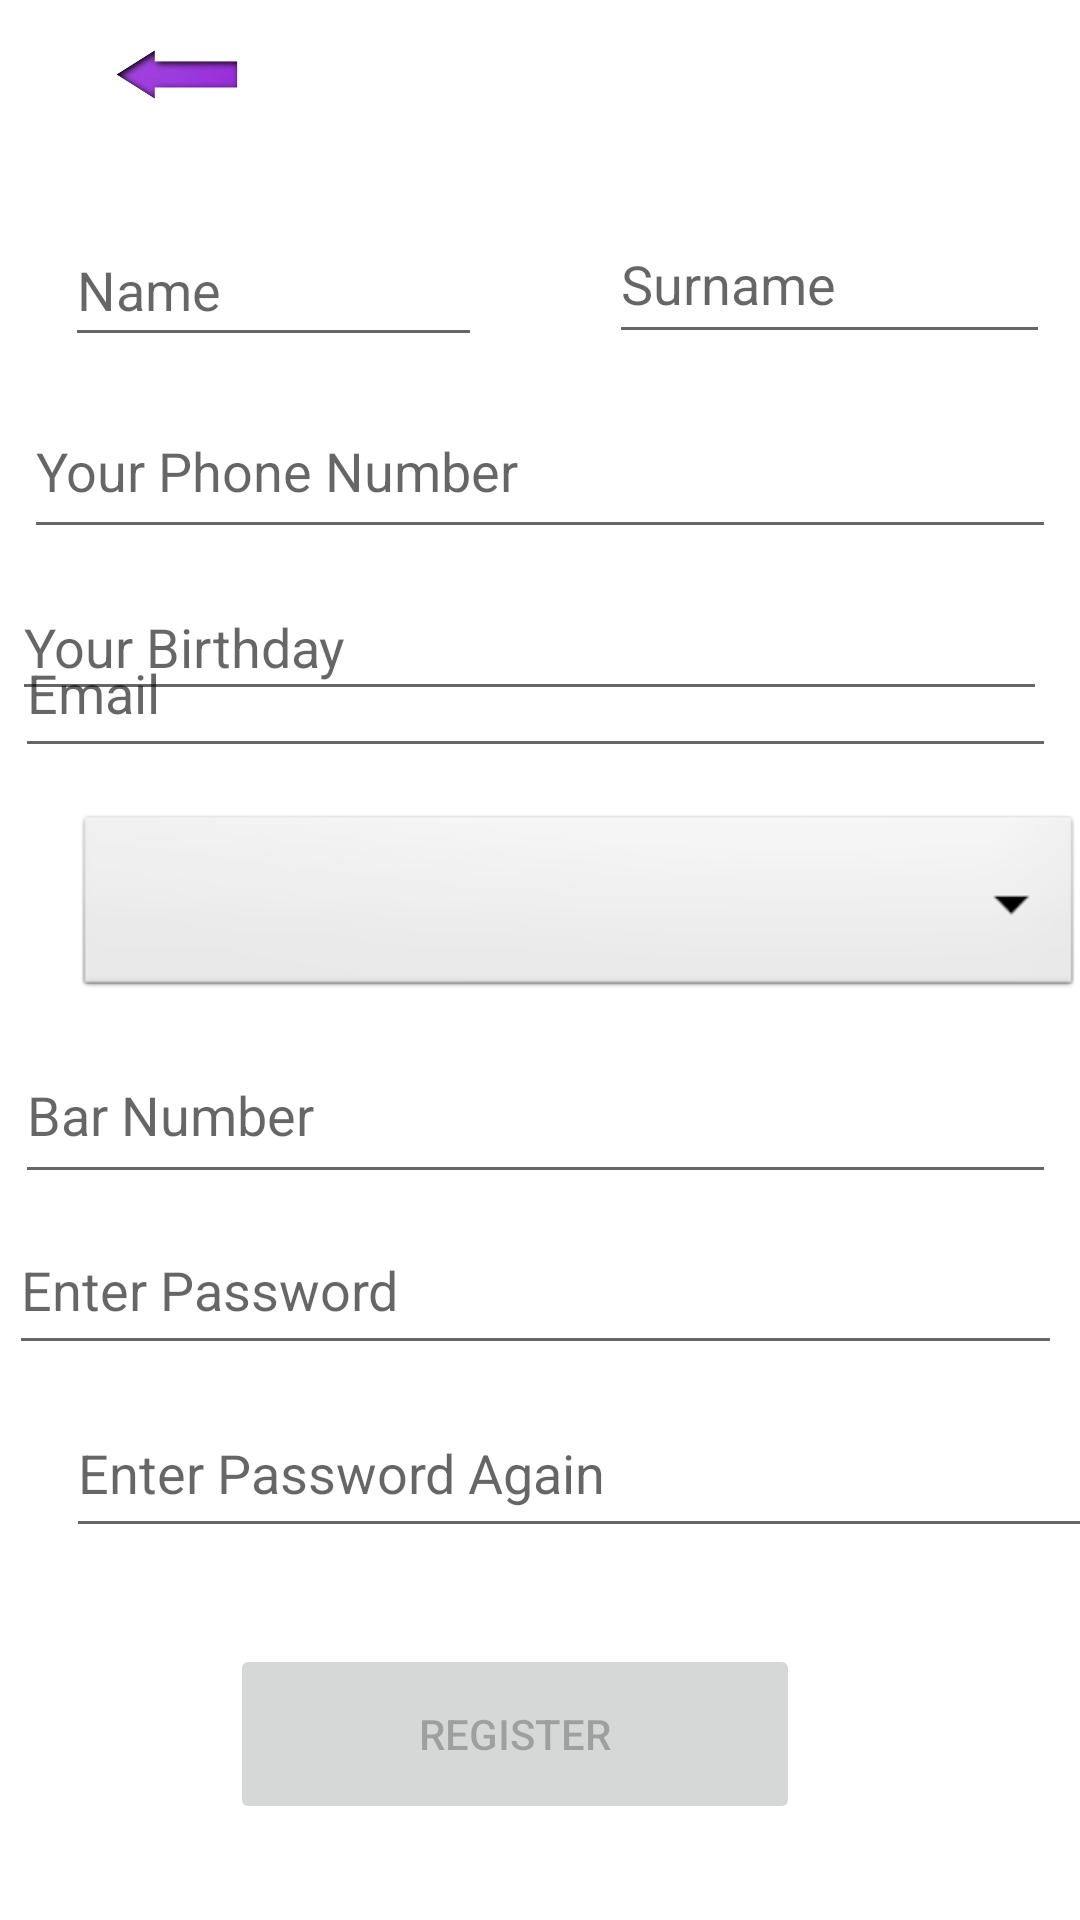

Point at icon controls on the screen. Image size 1080w x 1920h, points as (x,y).
arrow: (177,74)
